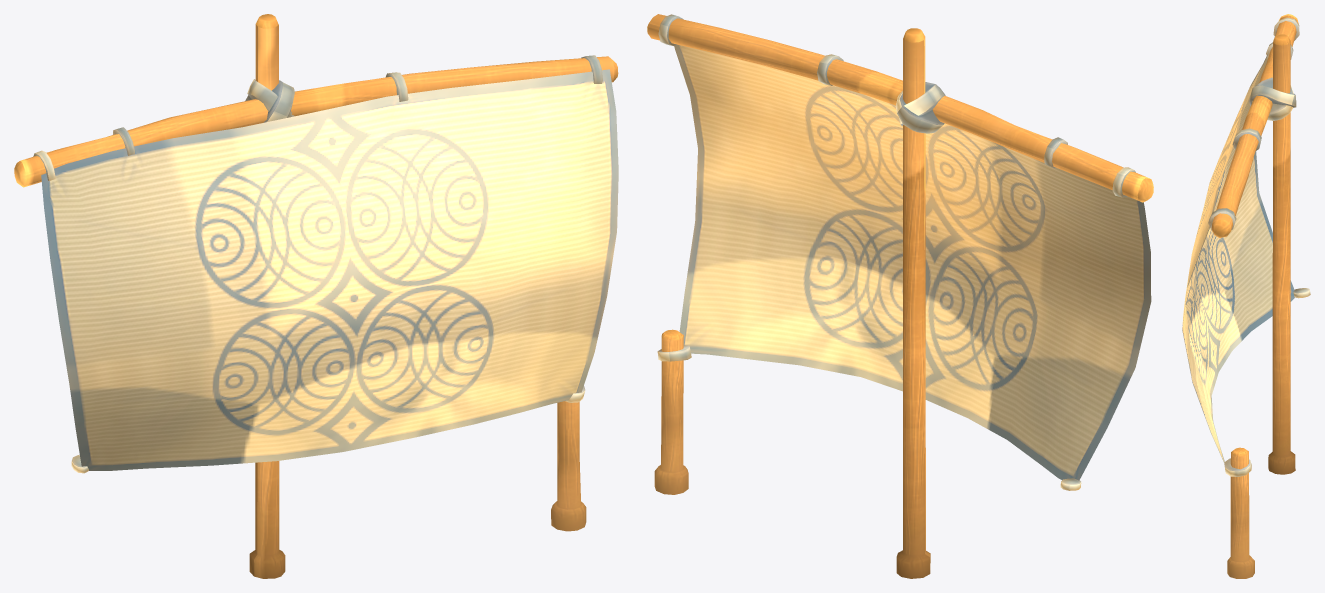
Rendered from SM_Stylized_Mast.fbx.
3 renders of one model, left to right at view 1: azimuth 30°, elevation 25°; view 2: azimuth 150°, elevation 25°; view 3: azimuth 270°, elevation 25°, orthographic. The views are drawn at different scales.
Visible parts, largest first — view 1: SM_Stylized_Mast_LOD0; view 2: SM_Stylized_Mast_LOD0; view 3: SM_Stylized_Mast_LOD0.
Part boxes in pixels (x1=…): SM_Stylized_Mast_LOD0: x1=14, y1=14, x2=618, y2=578; SM_Stylized_Mast_LOD0: x1=647, y1=14, x2=1153, y2=578; SM_Stylized_Mast_LOD0: x1=1182, y1=14, x2=1310, y2=578.
Bounding box in the file's own units: 275 × 70.59 × 262.
